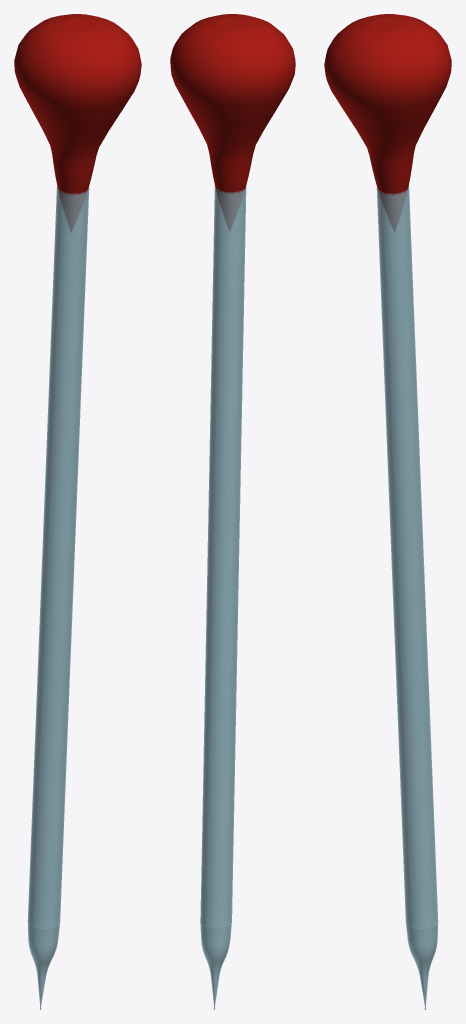
The model's file is chemical_Dropper001.FBX.
The picture shows the model from 3 angles, left to right: view 1: azimuth 90°, elevation 25°; view 2: azimuth 150°, elevation 25°; view 3: azimuth 270°, elevation 25°; orthographic projection.
Parts seen in each view (by area): view 1: chemical_Dropper001; view 2: chemical_Dropper001; view 3: chemical_Dropper001.
Part boxes in pixels (bbox=[...]): chemical_Dropper001: bbox=[14, 14, 141, 1009]; chemical_Dropper001: bbox=[170, 14, 295, 1009]; chemical_Dropper001: bbox=[324, 14, 451, 1009].
Bounding box in the file's own units: 1.16 × 9.89 × 1.16.
